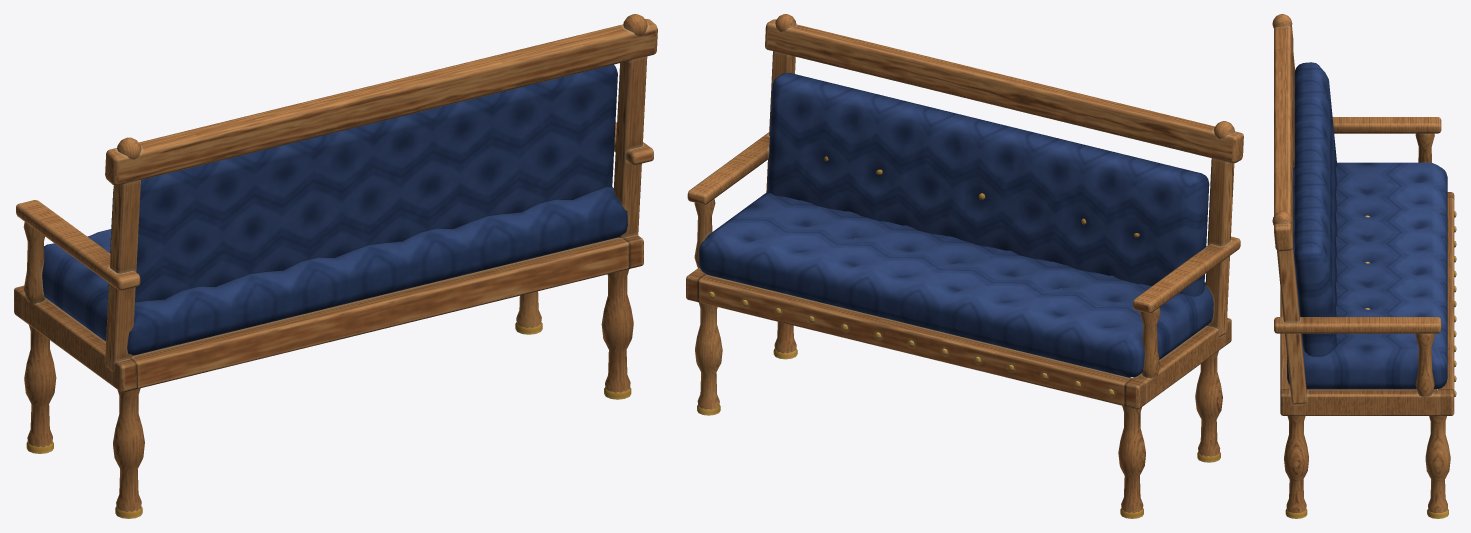
File: bench.fbx
3 views of the same model, side by side, from view 1: azimuth 30°, elevation 25°; view 2: azimuth 150°, elevation 25°; view 3: azimuth 270°, elevation 25° (orthographic). The views are drawn at different scales.
Parts seen in each view (by area): view 1: Body; view 2: Body; view 3: Body.
Part boxes in pixels (<box>): Body: <box>14,14,657,518</box>; Body: <box>686,14,1243,518</box>; Body: <box>1272,14,1456,518</box>.
Bounding box in the file's own units: 1.56 × 1.05 × 0.5725.
